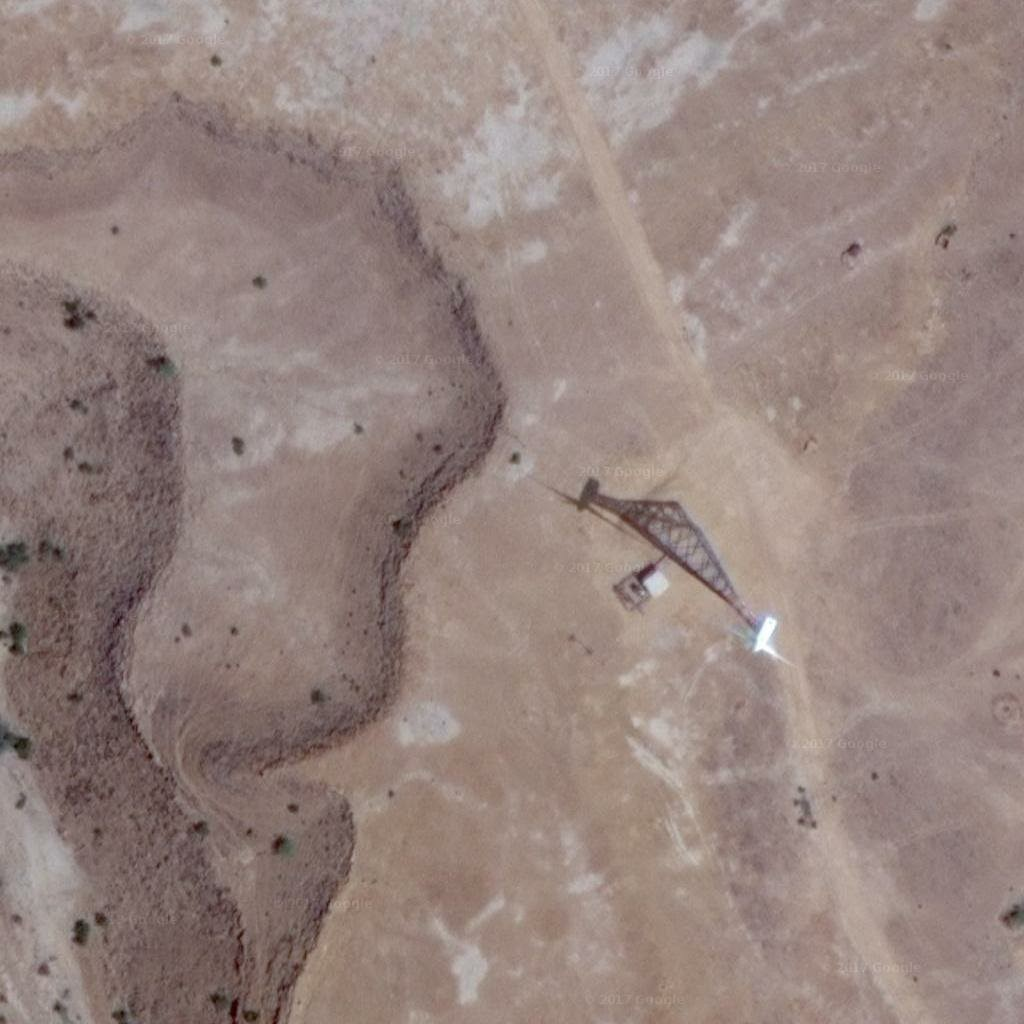Windmill: (512, 448, 754, 566)
